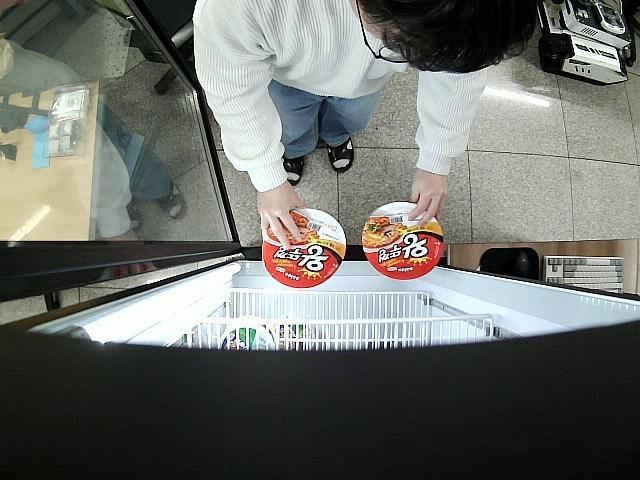10_wangTtukkeong: (262, 208, 346, 288), (361, 202, 442, 280)
